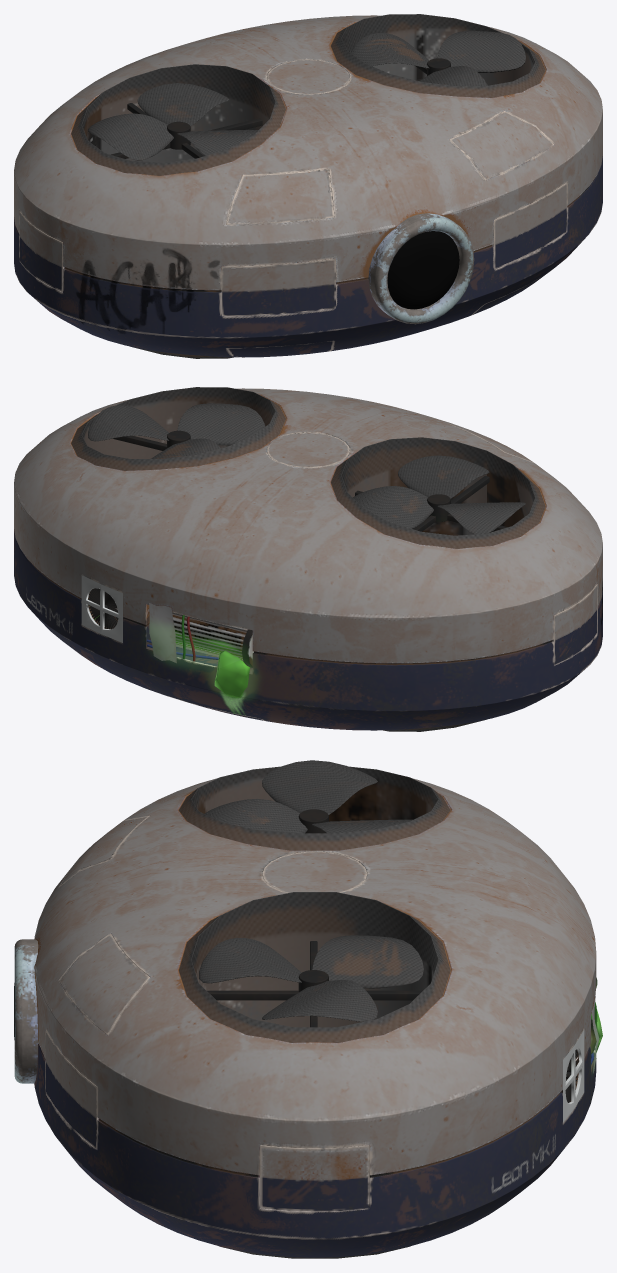
Rendered from leon.gltf.
3 renders of one model, top to bottom at view 1: azimuth 30°, elevation 25°; view 2: azimuth 150°, elevation 25°; view 3: azimuth 270°, elevation 25°, orthographic. The views are drawn at different scales.
Visible parts, largest first — view 1: Leon, Fans, Trappes, Trappe Top, Eye, Eye.001, Trappe Bottom; view 2: Leon, Fans, Trappe Top, Trappes; view 3: Leon, Fans, Trappes, Trappe Top, Eye.
Part boxes in pixels (x1,y1,x2,y2): Leon: [14, 14, 602, 358]; Fans: [88, 31, 525, 160]; Trappes: [19, 182, 567, 316]; Trappe Top: [226, 59, 554, 224]; Eye: [368, 213, 474, 324]; Eye.001: [387, 231, 459, 309]; Trappe Bottom: [226, 269, 552, 357]; Leon: [14, 387, 602, 731]; Fans: [88, 403, 525, 534]; Trappe Top: [243, 388, 534, 467]; Trappes: [552, 584, 597, 665]; Leon: [34, 766, 602, 1258]; Fans: [199, 760, 423, 1021]; Trappes: [45, 1030, 369, 1211]; Trappe Top: [59, 815, 367, 1035]; Eye: [14, 939, 38, 1083].
Bounding box in the file's own units: 2 × 0.827 × 1.48.
2 materials, 1 textured.
